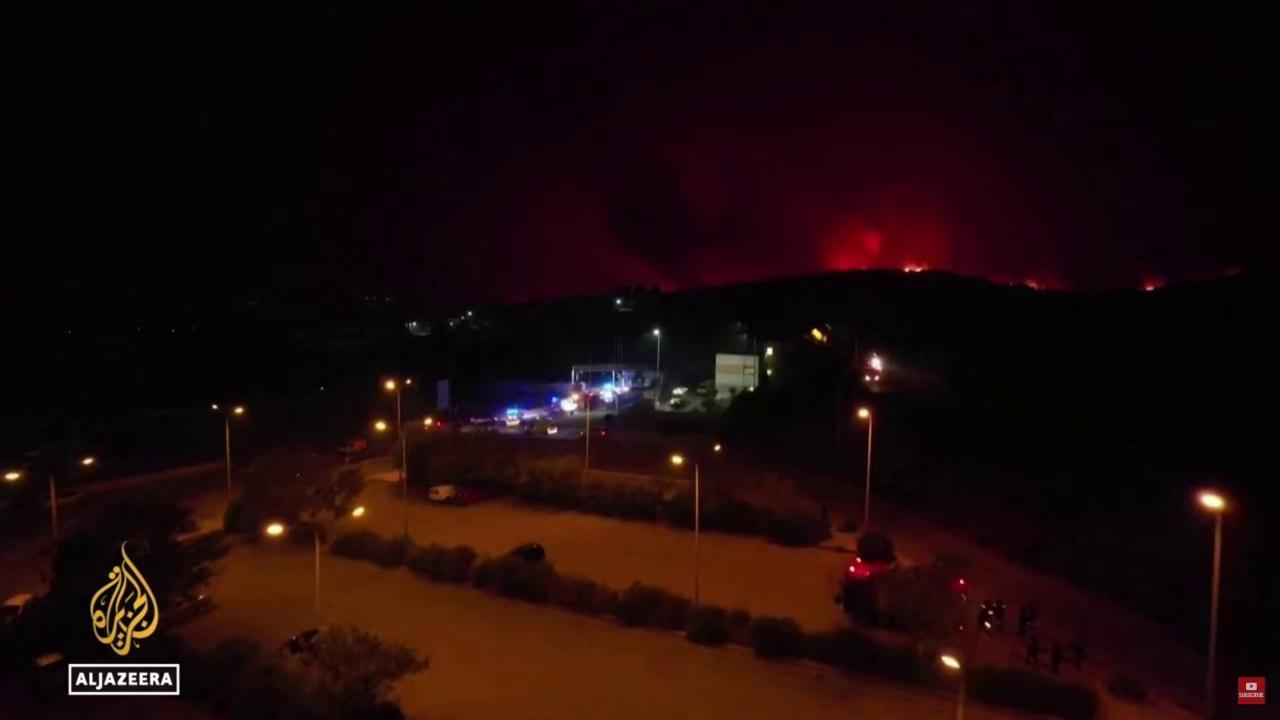fire: (900, 264, 923, 274), (1143, 285, 1156, 293)
smoke: (476, 102, 1072, 306)
